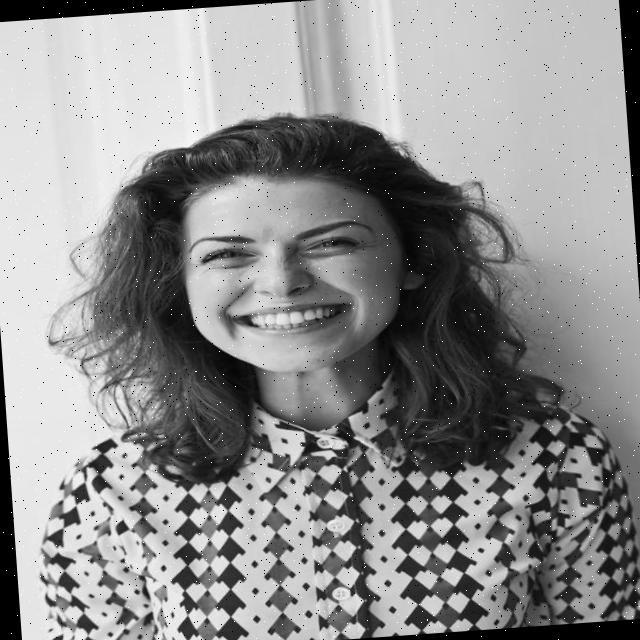Happiness: (170, 159, 413, 385)
